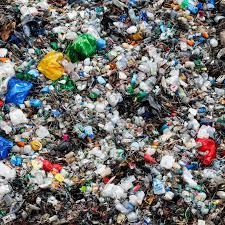Trash: (3, 2, 225, 225)
